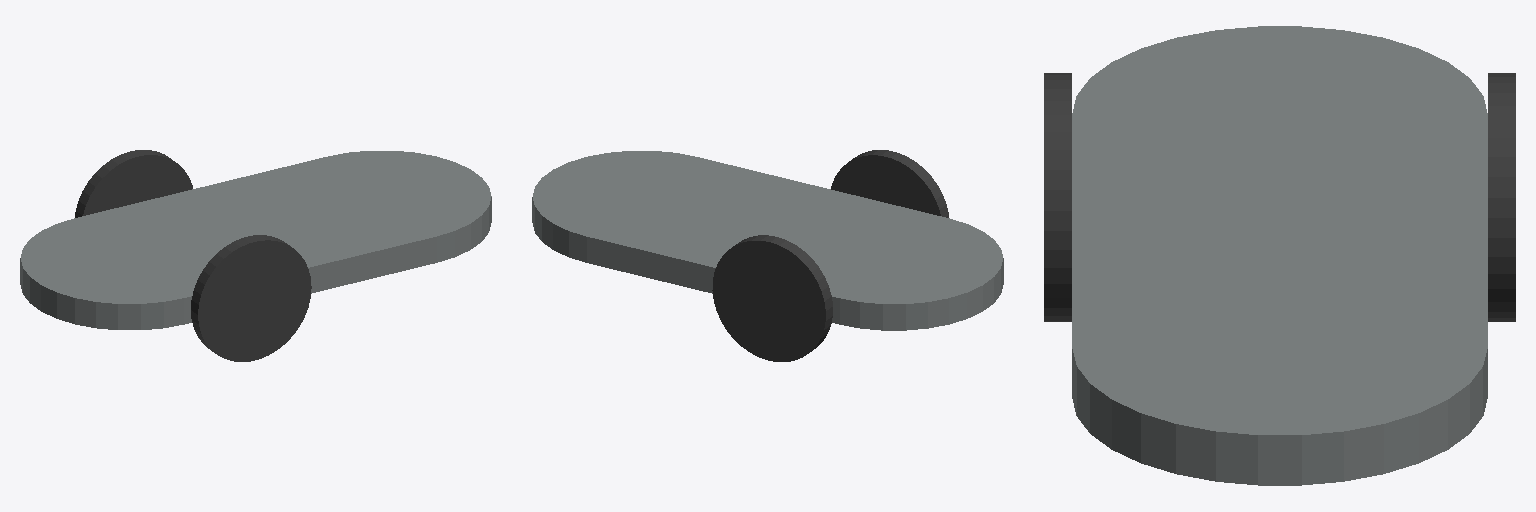
The robot description file, URDF, robot "diffbot":
<?xml version="1.0" encoding="utf-8"?>
<!-- This URDF was automatically created by SolidWorks to URDF Exporter! Originally created by [author] ([email redacted]) 
     Commit Version: 1.6.0-1-g15f4949  Build Version: 1.6.7594.29634
     For more information, please see http://wiki.ros.org/sw_urdf_exporter -->
<robot
  name="diffbot">
  <link
    name="base_link">
    <inertial>
      <origin
        xyz="0.0012511 0 -0.02"
        rpy="0 0 0" />
      <mass
        value="7.5332" />
      <inertia
        ixx="0.052212"
        ixy="3.9485E-17"
        ixz="9.6786E-19"
        iyy="0.26506"
        iyz="3.2771E-19"
        izz="0.31524" />
    </inertial>
    <visual>
      <origin
        xyz="0 0 0"
        rpy="0 0 0" />
      <geometry>
        <mesh
          filename="package://diffbot/meshes/base_link.STL" />
      </geometry>
      <material
        name="">
        <color
          rgba="0.52941 0.54902 0.54902 1" />
      </material>
    </visual>
    <collision>
      <origin
        xyz="0 0 0"
        rpy="0 0 0" />
      <geometry>
        <mesh
          filename="package://diffbot/meshes/base_link.STL" />
      </geometry>
    </collision>
  </link>
  <link
    name="linkleft">
    <inertial>
      <origin
        xyz="-1.3878E-17 -0.011048 0"
        rpy="0 0 0" />
      <mass
        value="0.52465" />
      <inertia
        ixx="0.0010699"
        ixy="2.059E-19"
        ixz="-1.6414E-19"
        iyy="0.002062"
        iyz="9.9564E-21"
        izz="0.0010699" />
    </inertial>
    <visual>
      <origin
        xyz="0 0 0"
        rpy="0 0 0" />
      <geometry>
        <mesh
          filename="package://diffbot/meshes/linkleft.STL" />
      </geometry>
      <material
        name="">
        <color
          rgba="0.29804 0.29804 0.29804 1" />
      </material>
    </visual>
    <collision>
      <origin
        xyz="0 0 0"
        rpy="0 0 0" />
      <geometry>
        <mesh
          filename="package://diffbot/meshes/linkleft.STL" />
      </geometry>
    </collision>
  </link>
  <joint
    name="jointleft"
    type="continuous">
    <origin
      xyz="-0.1 0.17 -0.02"
      rpy="0 0 0" />
    <parent
      link="base_link" />
    <child
      link="linkleft" />
    <axis
      xyz="0 -1 0" />
    <limit
      effort="1"
      velocity="1" />
  </joint>
  <link
    name="linkright">
    <inertial>
      <origin
        xyz="1.3878E-17 0.011048 0"
        rpy="0 0 0" />
      <mass
        value="0.52465" />
      <inertia
        ixx="0.0010699"
        ixy="1.4008E-19"
        ixz="1.0434E-35"
        iyy="0.002062"
        iyz="5.8775E-36"
        izz="0.0010699" />
    </inertial>
    <visual>
      <origin
        xyz="0 0 0"
        rpy="0 0 0" />
      <geometry>
        <mesh
          filename="package://diffbot/meshes/linkright.STL" />
      </geometry>
      <material
        name="">
        <color
          rgba="0.29804 0.29804 0.29804 1" />
      </material>
    </visual>
    <collision>
      <origin
        xyz="0 0 0"
        rpy="0 0 0" />
      <geometry>
        <mesh
          filename="package://diffbot/meshes/linkright.STL" />
      </geometry>
    </collision>
  </link>
  <joint
    name="jointright"
    type="continuous">
    <origin
      xyz="-0.1 -0.17 -0.02"
      rpy="0 0 0" />
    <parent
      link="base_link" />
    <child
      link="linkright" />
    <axis
      xyz="0 -1 0" />
    <limit
      effort="1"
      velocity="1" />
  </joint>
</robot>

--- What the picture shows (computed from the rendered views, not written in the file) ---
3 views of the same robot in one strip: view 1: azimuth 30°, elevation 25°; view 2: azimuth 150°, elevation 25°; view 3: azimuth 270°, elevation 25° (orthographic).
Model diffbot with 3 links and 2 joints (2 continuous), rooted at base_link, posed every joint at zero.
Links seen in each view (by area): view 1: base_link, linkright, linkleft; view 2: base_link, linkleft, linkright; view 3: base_link, linkleft, linkright.
Boxes of the visible links, bbox=[...] form: base_link: bbox=[20, 151, 491, 329]; linkright: bbox=[191, 235, 311, 361]; linkleft: bbox=[75, 150, 192, 217]; base_link: bbox=[532, 151, 1003, 330]; linkleft: bbox=[712, 235, 832, 361]; linkright: bbox=[831, 150, 948, 217]; base_link: bbox=[1072, 26, 1487, 485]; linkleft: bbox=[1488, 73, 1515, 321]; linkright: bbox=[1044, 73, 1071, 321].
Bounding box of the posed robot: 0.6984 × 0.34 × 0.18 m (x, y, z).
Meshes: 3 distinct files referenced, 3 mesh visuals loaded (3 binary STL).